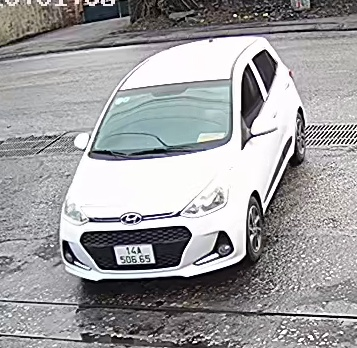vehicle plate: (107, 241, 161, 269)
